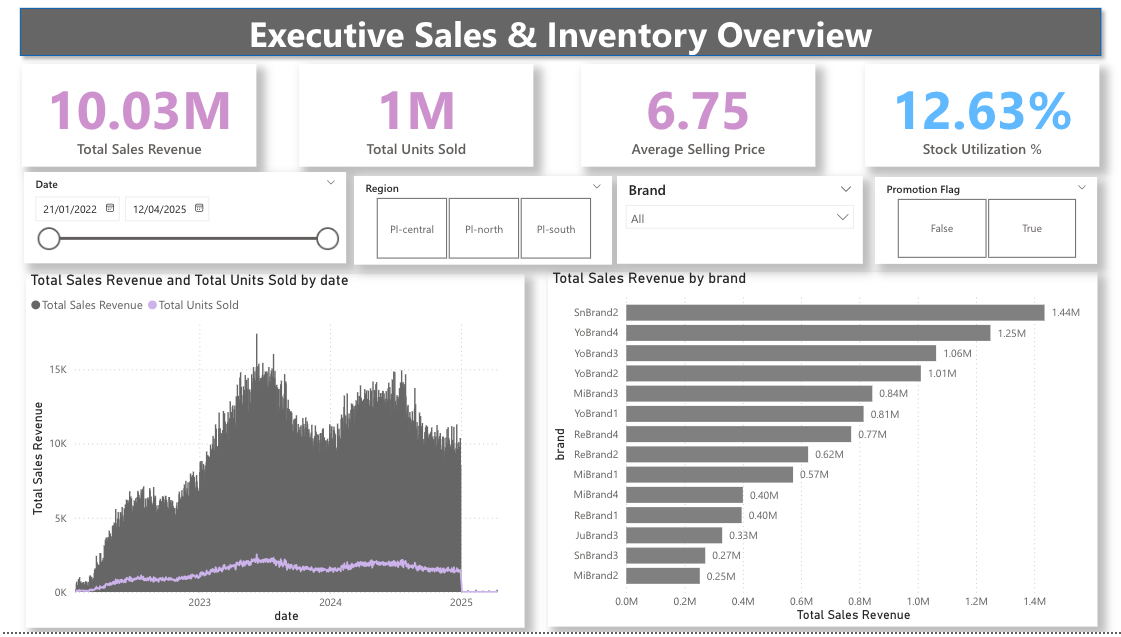

This screenshot's page, from the dashboard's own definition file:
{"tool":"powerbi","page":{"name":"Executive Overview","canvas":[1280,720],"ordinal":0},"visuals":[{"type":"shape","title":"Executive Sales & Inventory Overview","box":[14.2,0,1249.9,72.8],"z":0},{"type":"card","fields":{"Values":["Measure Table.Total Sales Revenue"]},"box":[25.3,72.8,267.4,117.1],"z":1000},{"type":"card","fields":{"Values":["Measure Table.Total Units Sold"]},"box":[340.2,72.8,267.4,117.1],"z":2000},{"type":"card","fields":{"Values":["Measure Table.Average Selling Price"]},"box":[661.4,72.8,267.4,117.1],"z":3000},{"type":"card","fields":{"Values":["Measure Table.Stock Utilization %"]},"box":[985.6,73,267.3,116.6],"z":4000},{"type":"lineClusteredColumnComboChart","fields":{"Category":["gold_sales_gold_for_bi.date"],"Y":["Measure Table.Total Sales Revenue"],"Y2":["Measure Table.Total Units Sold"]},"box":[29.4,312.1,567.6,402.7],"z":5000},{"type":"clusteredBarChart","fields":{"Category":["gold_sales_gold_for_bi.brand"],"Y":["Measure Table.Total Sales Revenue"]},"box":[624.1,309.7,626.5,403.9],"z":6000},{"type":"slicer","fields":{"Values":["gold_sales_gold_for_bi.date"]},"box":[26.9,196.2,367.1,104.4],"z":7000},{"type":"slicer","fields":{"Values":["gold_sales_gold_for_bi.region"]},"box":[403.5,200.9,294.3,101.3],"z":8000},{"type":"slicer","fields":{"Values":["gold_sales_gold_for_bi.brand"]},"box":[702.5,200.9,280,99.7],"z":9000},{"type":"slicer","fields":{"Values":["gold_sales_gold_for_bi.promotion_flag"]},"box":[997.4,201.4,253.2,98.9],"z":10000}]}

Visuals, with their boxes in screenshot pixels (x1, y1, x2, y2), scaled from the page's 1280x720 canvas onto the 1121x637 screenshot:
"Executive Sales & Inventory Overview" shape: (12, 0, 1107, 64)
card - Measure Table.Total Sales Revenue: (22, 64, 256, 168)
card - Measure Table.Total Units Sold: (298, 64, 532, 168)
card - Measure Table.Average Selling Price: (579, 64, 813, 168)
card - Measure Table.Stock Utilization %: (863, 65, 1097, 168)
lineClusteredColumnComboChart - gold_sales_gold_for_bi.date x Measure Table.Total Sales Revenue: (26, 276, 523, 632)
clusteredBarChart - gold_sales_gold_for_bi.brand x Measure Table.Total Sales Revenue: (547, 274, 1095, 631)
slicer - gold_sales_gold_for_bi.date: (24, 174, 345, 266)
slicer - gold_sales_gold_for_bi.region: (353, 178, 611, 267)
slicer - gold_sales_gold_for_bi.brand: (615, 178, 860, 266)
slicer - gold_sales_gold_for_bi.promotion_flag: (874, 178, 1095, 266)
